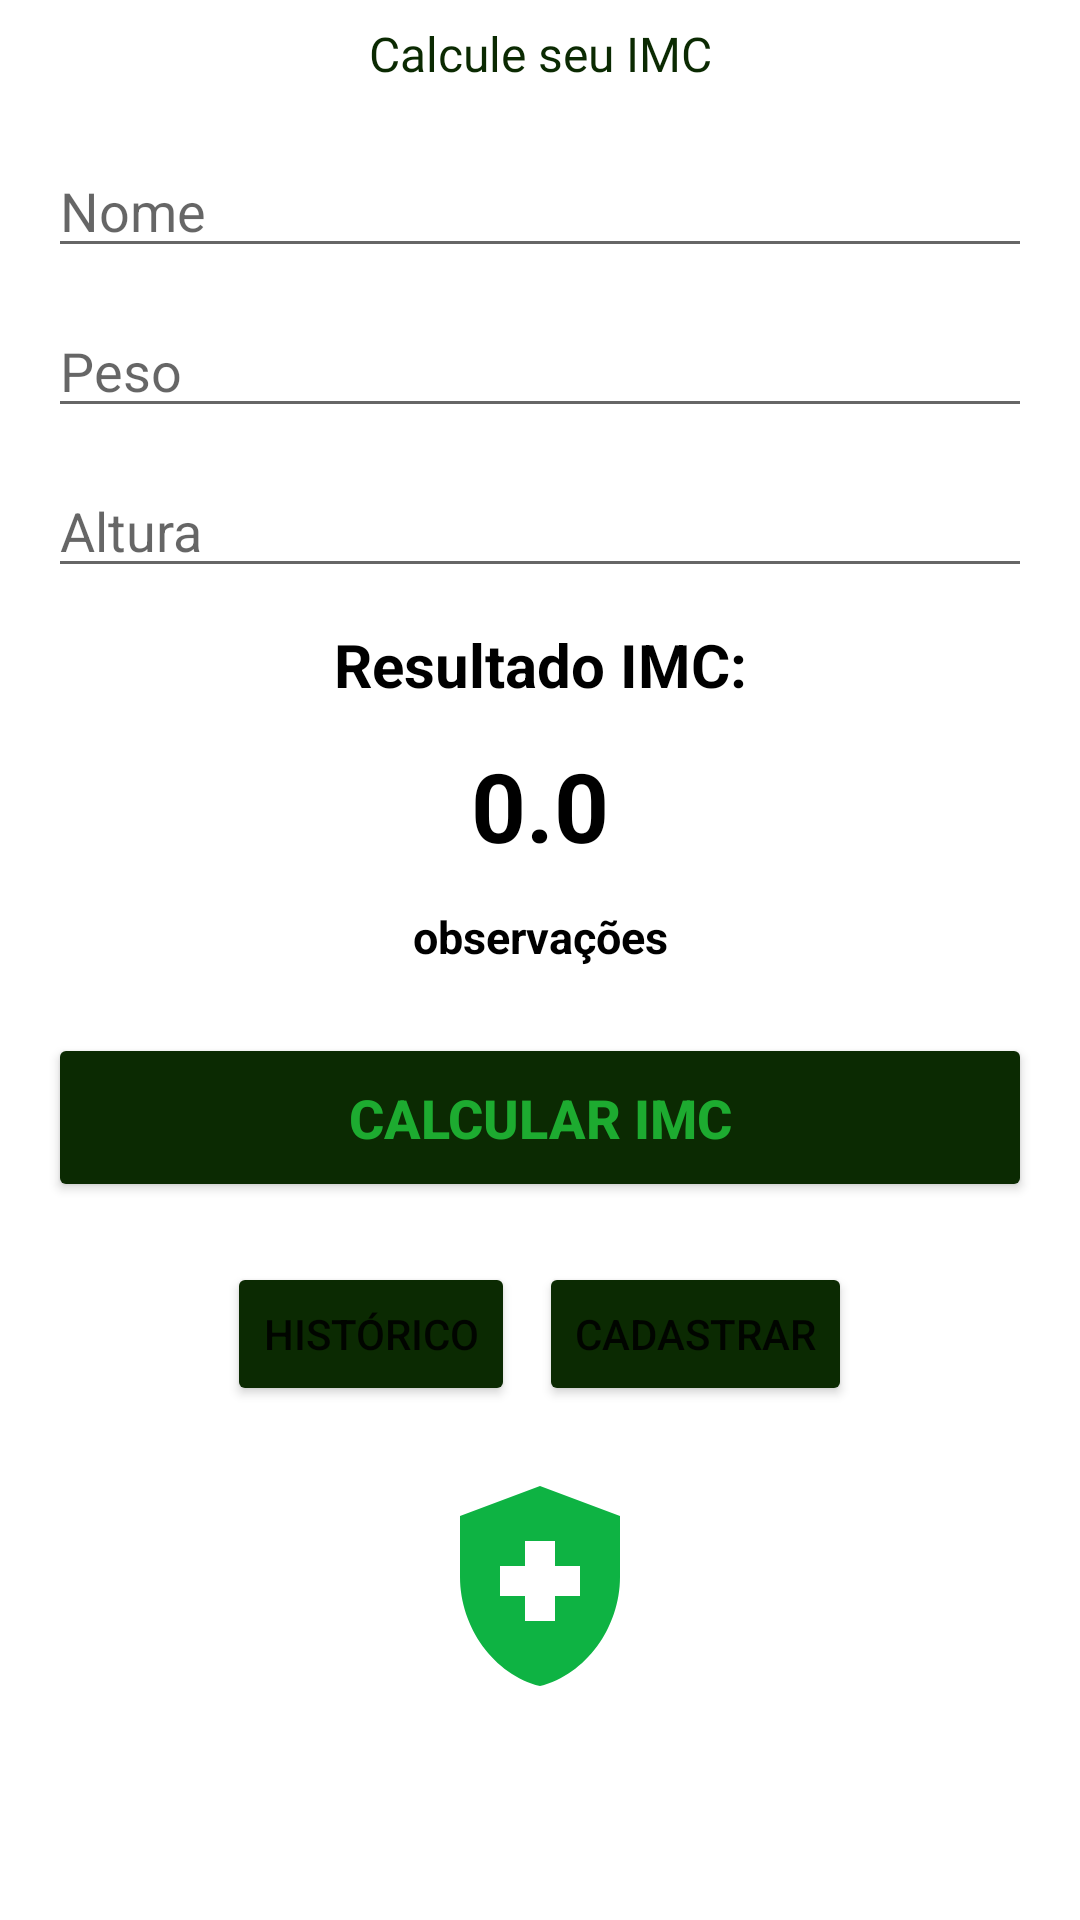

Icons on this 1080px×1920px Android screen, each with the point to tap as [x,y]:
Imagem de saúde: [540,1586]
